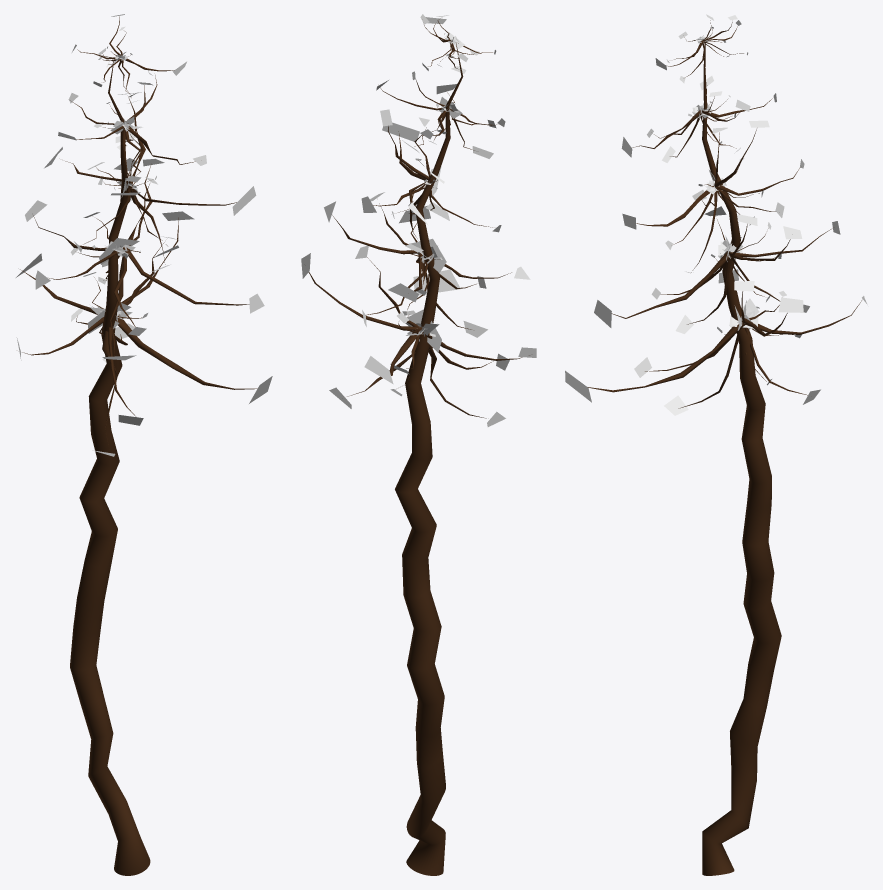
File: koks02_test.fbx
The picture shows the model from 3 angles, left to right: view 1: azimuth 30°, elevation 25°; view 2: azimuth 150°, elevation 25°; view 3: azimuth 270°, elevation 25°; orthographic projection.
Visible parts, largest first — view 1: Koks2; view 2: Koks2; view 3: Koks2.
Boxes of the visible parts, x1,y1,x2,y2 form: Koks2: (16, 14, 272, 875); Koks2: (301, 14, 536, 875); Koks2: (565, 14, 867, 875).
Size of the model in its own units: 5.72 by 22.68 by 7.29.
